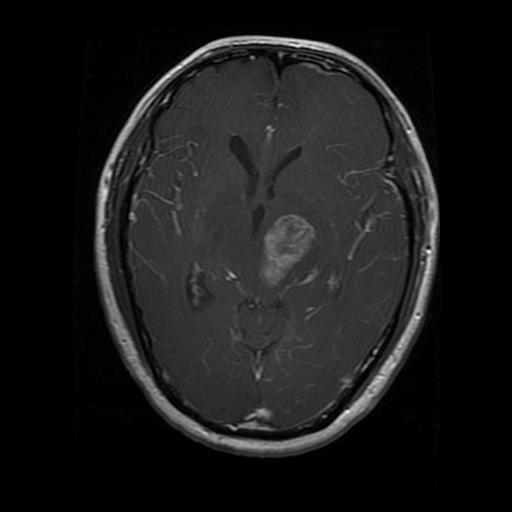Tumour-Glioma: (258, 200, 319, 301)
